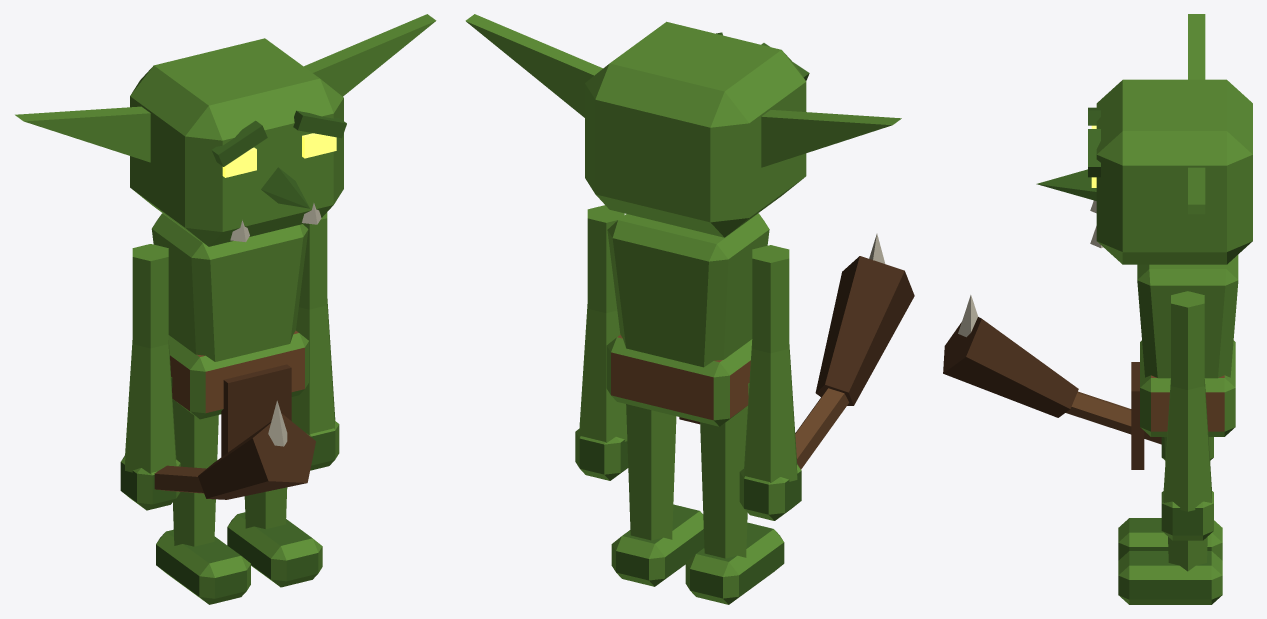
Rendered from goblin.glb.
3 renders of one model, left to right at view 1: azimuth 30°, elevation 25°; view 2: azimuth 150°, elevation 25°; view 3: azimuth 270°, elevation 25°, orthographic. The views are drawn at different scales.
Visible parts, largest first — view 1: head, torso, arm_r, leg_r, arm_l, leg_l; view 2: head, torso, arm_r, leg_r, leg_l, arm_l; view 3: head, torso, arm_l, arm_r, leg_l, leg_r.
Part boxes in pixels (box(x1,y1,x2,y2)): head: box(15, 14, 436, 246); torso: box(151, 213, 308, 456); arm_r: box(120, 244, 315, 510); leg_r: box(156, 377, 250, 604); arm_l: box(291, 212, 339, 470); leg_l: box(227, 487, 322, 587); head: box(465, 14, 901, 237); torso: box(606, 213, 769, 426); arm_r: box(739, 233, 914, 520); leg_r: box(685, 383, 784, 604); leg_l: box(611, 404, 704, 586); arm_l: box(575, 205, 628, 480); head: box(1036, 14, 1252, 264); torso: box(1131, 255, 1238, 469); arm_l: box(1161, 291, 1213, 540); arm_r: box(943, 295, 1213, 460); leg_l: box(1118, 437, 1222, 604); leg_r: box(1118, 518, 1222, 560).
Bounding box in the file's own units: 1.04 × 1.21 × 0.7143.
